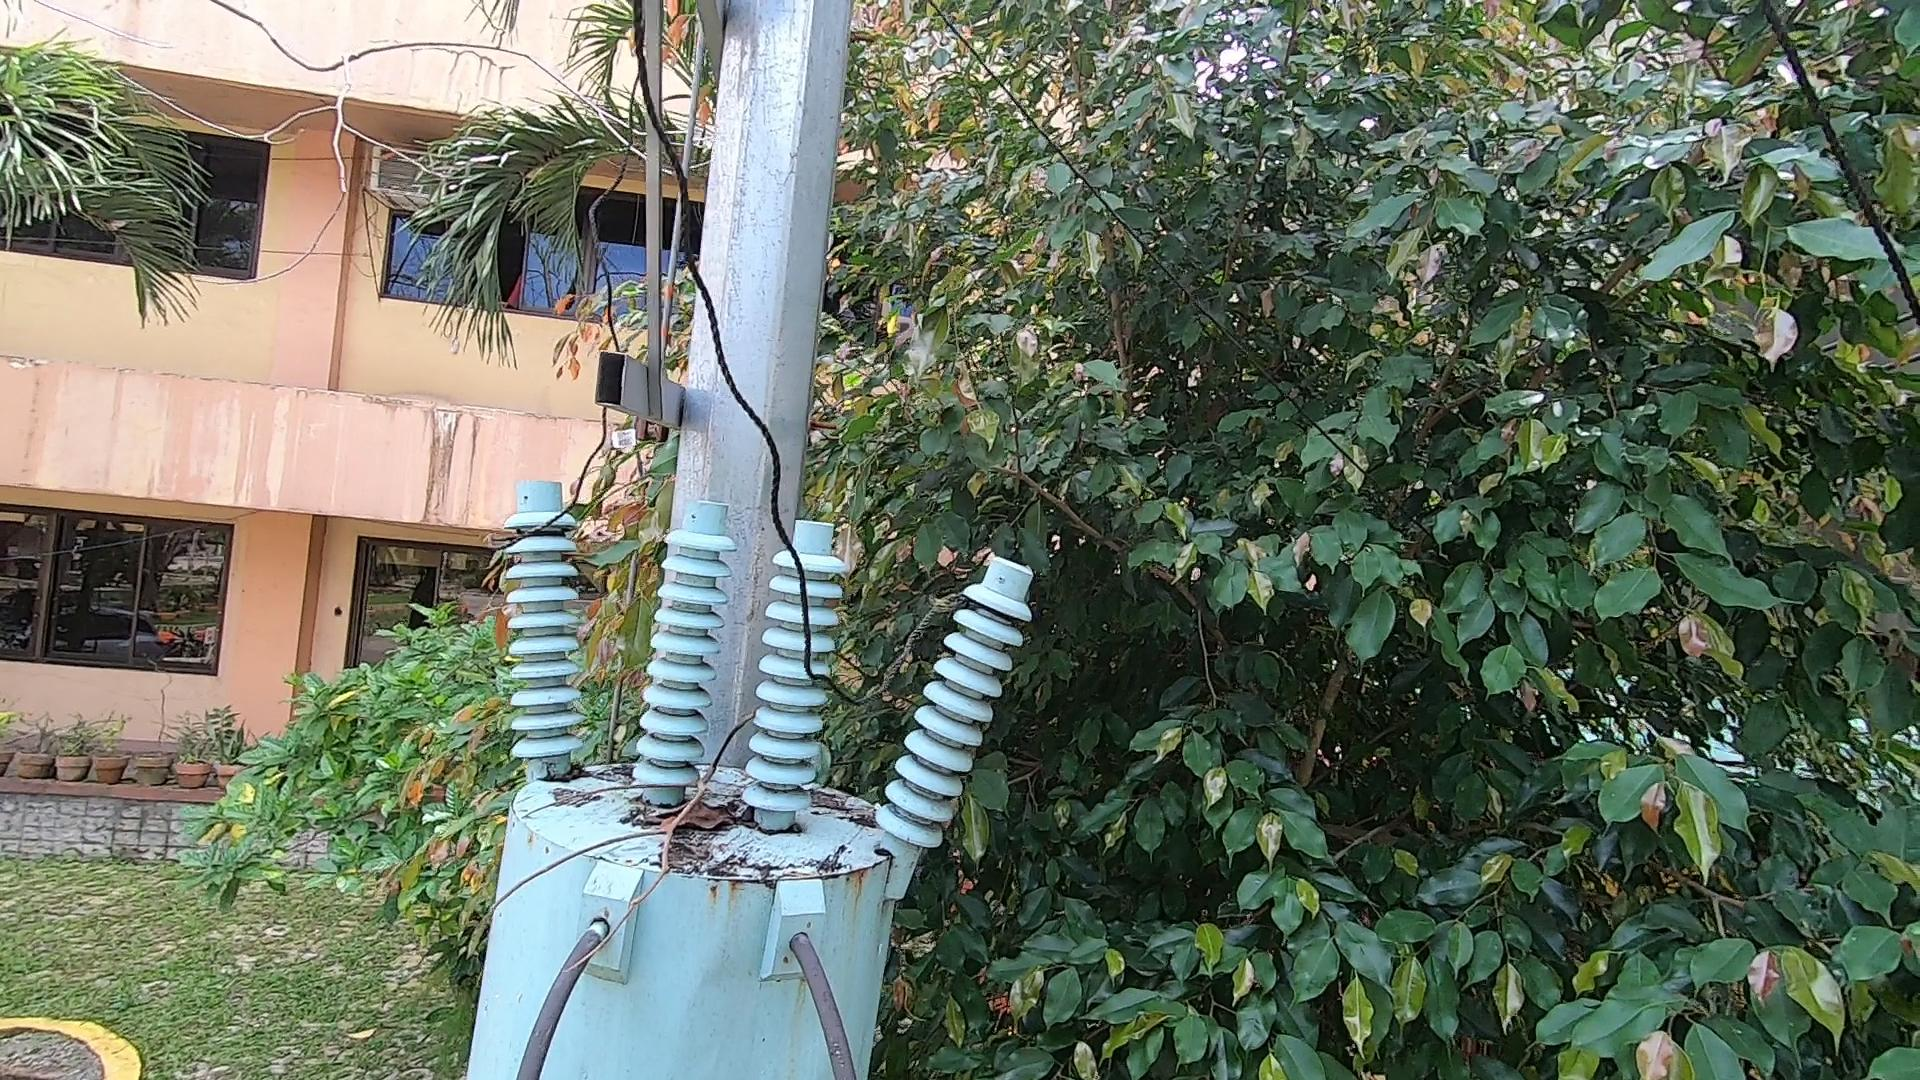leaf: (629, 794, 752, 839), (818, 777, 891, 833), (542, 753, 595, 793)
tree branch: (469, 709, 771, 1002)
